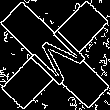M_SE: (20, 21, 90, 89)
